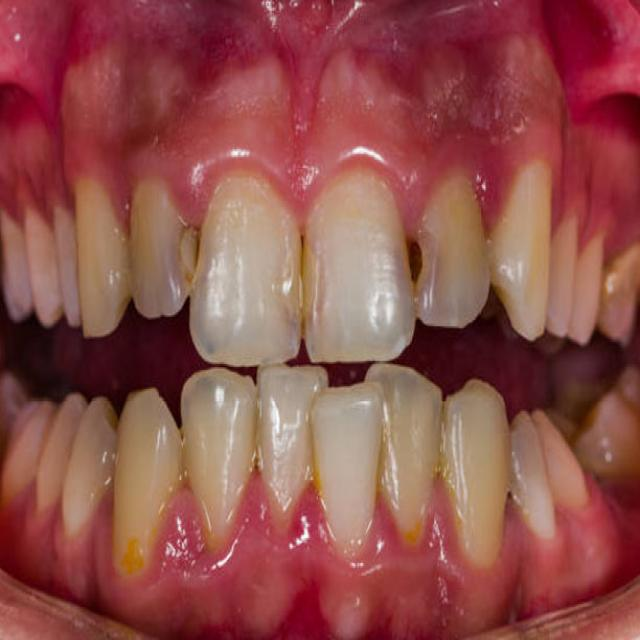caries: (170, 210, 206, 285), (398, 224, 432, 290), (289, 224, 318, 281)
